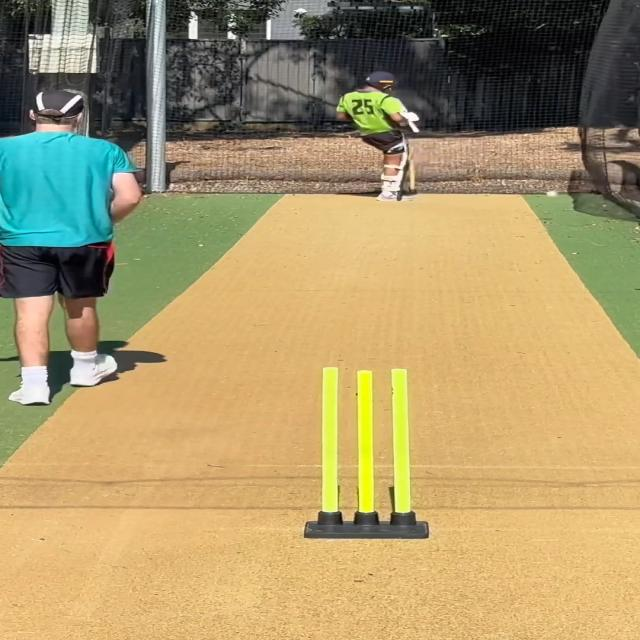stump: (305, 368, 433, 540)
